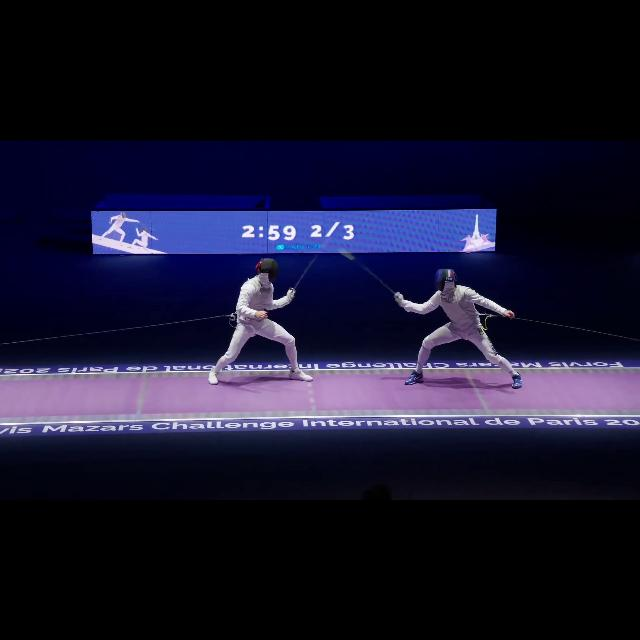blade: (334, 245, 406, 302), (288, 217, 339, 297)
